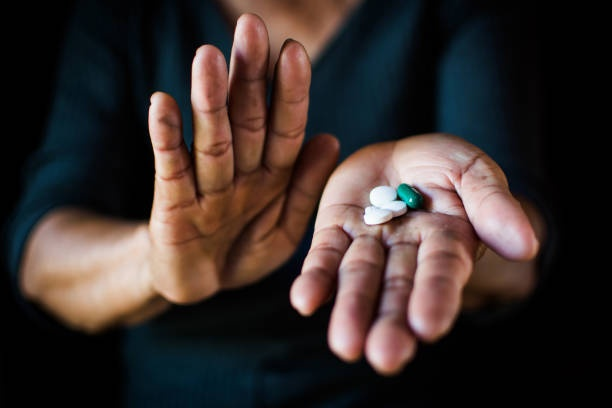pills: (398, 179, 423, 203), (367, 184, 397, 202)
